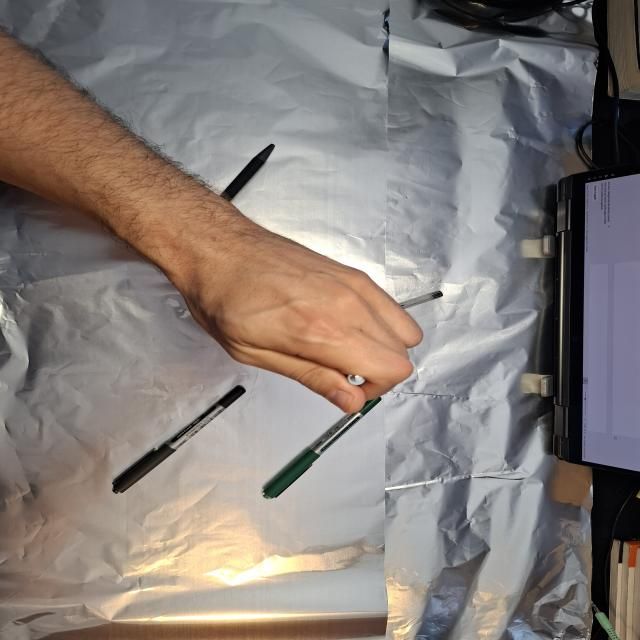glove_off: (175, 228, 426, 415)
